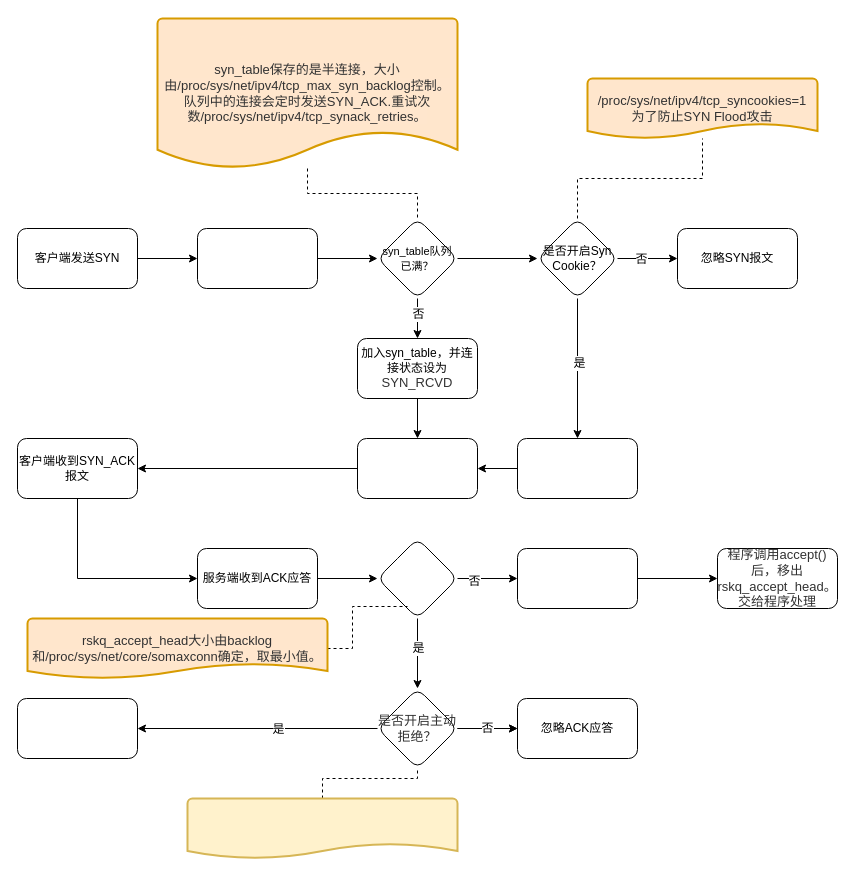
This 855x876 diagram has some shape labels left out. Here are the shapes that lost their labels. From the top down, the centre of each, then its label:
(x=257, y=258): 服务端收到SYN报文
(x=417, y=468): 向客户端发送SYN_ACK报文
(x=577, y=468): 计算Cookie
(x=417, y=578): rskq_accept_head 是否已满？
(x=577, y=578): 将连接状态改为ESTABLSHED并移出syn_table，放入rskq_accept_head
(x=77, y=728): 客户端收到RST
(x=322, y=828): /proc/sys/net/ipv4/tcp_abort_on_overflow=1
